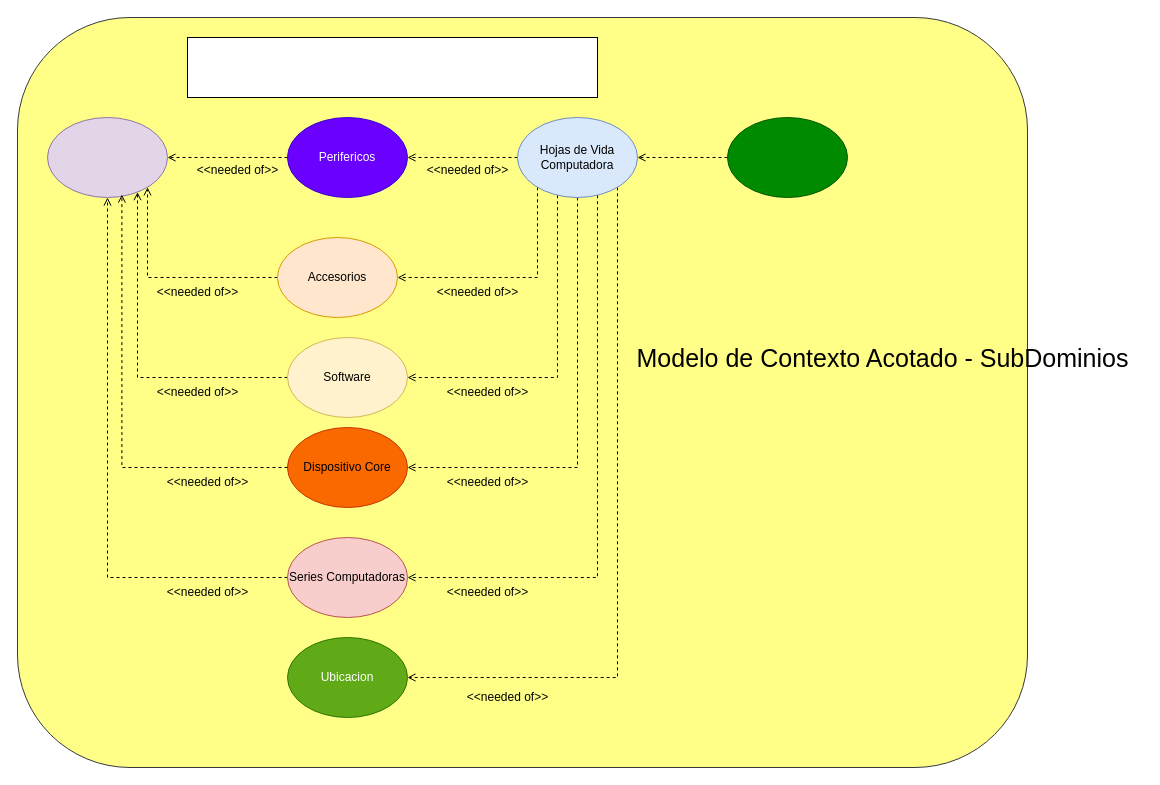
Image size: 1160x785. Some labels were removed from this diagram. Each missing label, with the box of its shape:
Fabricantes: (46, 116, 168, 198)
Historicos Computadoras: (726, 116, 848, 198)
Hoja de Vida Computadoras: (186, 36, 598, 98)
